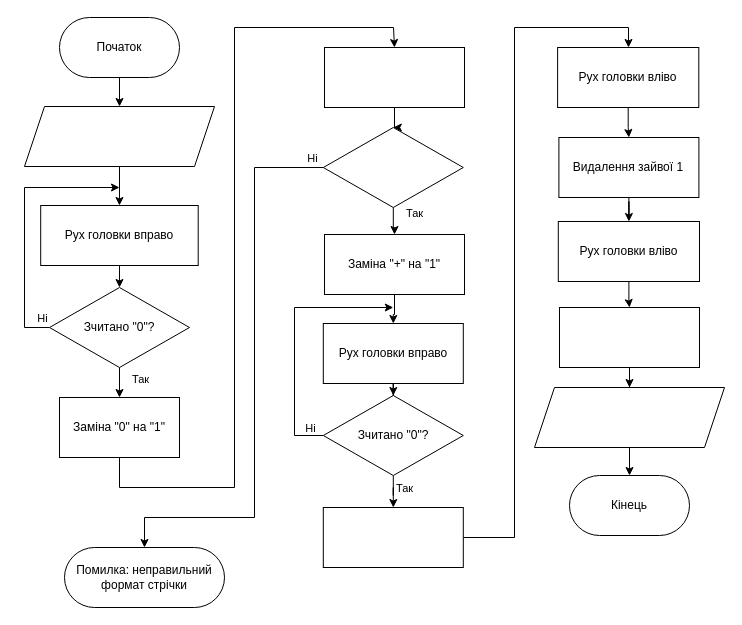
Image size: 742x625. Some labels were removed from this diagram. Each missing label, with the box of its shape:
Вивід результат Z: (534, 386, 724, 448)
Вхідна стрічка X + Y: (24, 106, 214, 166)
Заміна "0" на "_": (322, 506, 463, 568)
Заміна "1" на "0": (558, 306, 700, 368)
Зчитано "+"?: (322, 126, 463, 208)
Рух головки вправо до символу "+": (324, 46, 464, 108)
